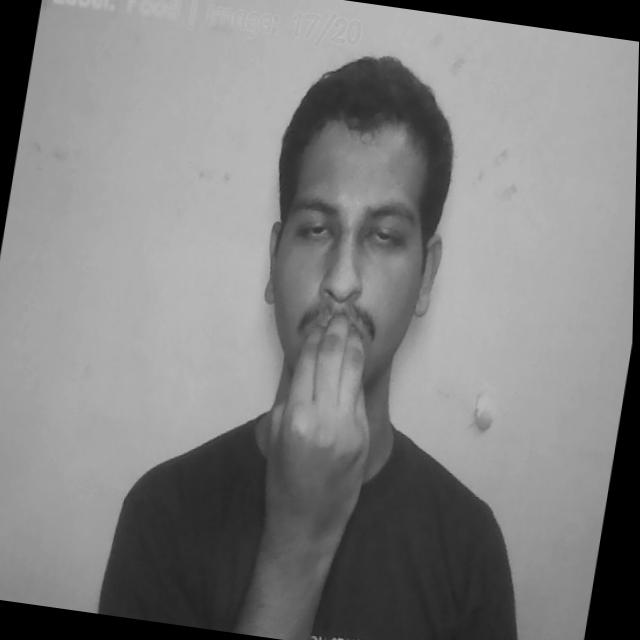Food: (247, 309, 394, 585)
